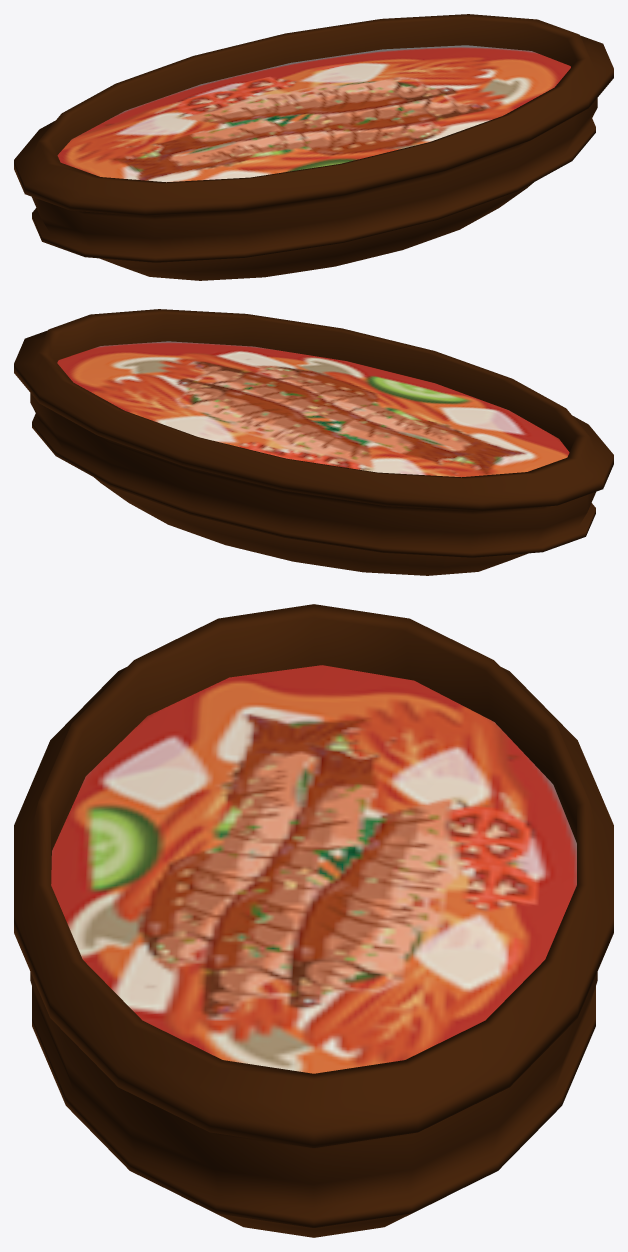
The model's file is FishStew.fbx.
3 views of the same model, one above another, from view 1: azimuth 30°, elevation 25°; view 2: azimuth 150°, elevation 25°; view 3: azimuth 270°, elevation 25° (orthographic). The views are drawn at different scales.
Visible parts, largest first — view 1: FishStew001; view 2: FishStew001; view 3: FishStew001.
Boxes of the visible parts, <box> form: FishStew001: <box>14,14,613,280</box>; FishStew001: <box>14,309,613,575</box>; FishStew001: <box>14,604,613,1237</box>.
Bounding box in the file's own units: 9.8 × 2.16 × 4.77.
1 material, 1 textured.
